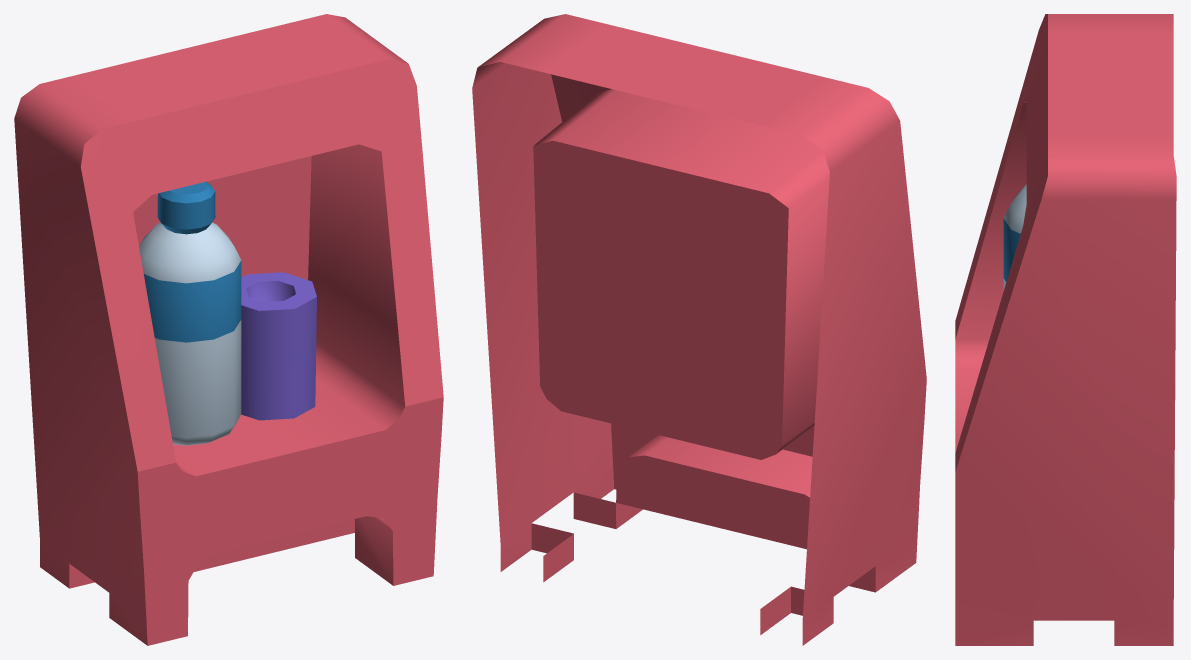
The model's file is icebox01_s01.FBX.
3 views of the same model, side by side, from view 1: azimuth 30°, elevation 25°; view 2: azimuth 150°, elevation 25°; view 3: azimuth 270°, elevation 25° (orthographic). The views are drawn at different scales.
Visible parts, largest first — view 1: icebox01_s01; view 2: icebox01_s01; view 3: icebox01_s01.
Part boxes in pixels (x1,y1,x2,y2): icebox01_s01: [14, 14, 443, 645]; icebox01_s01: [472, 14, 926, 645]; icebox01_s01: [955, 14, 1176, 645].
Bounding box in the file's own units: 137 × 76.85 × 188.
Materials: 1 (1 with a texture image).
